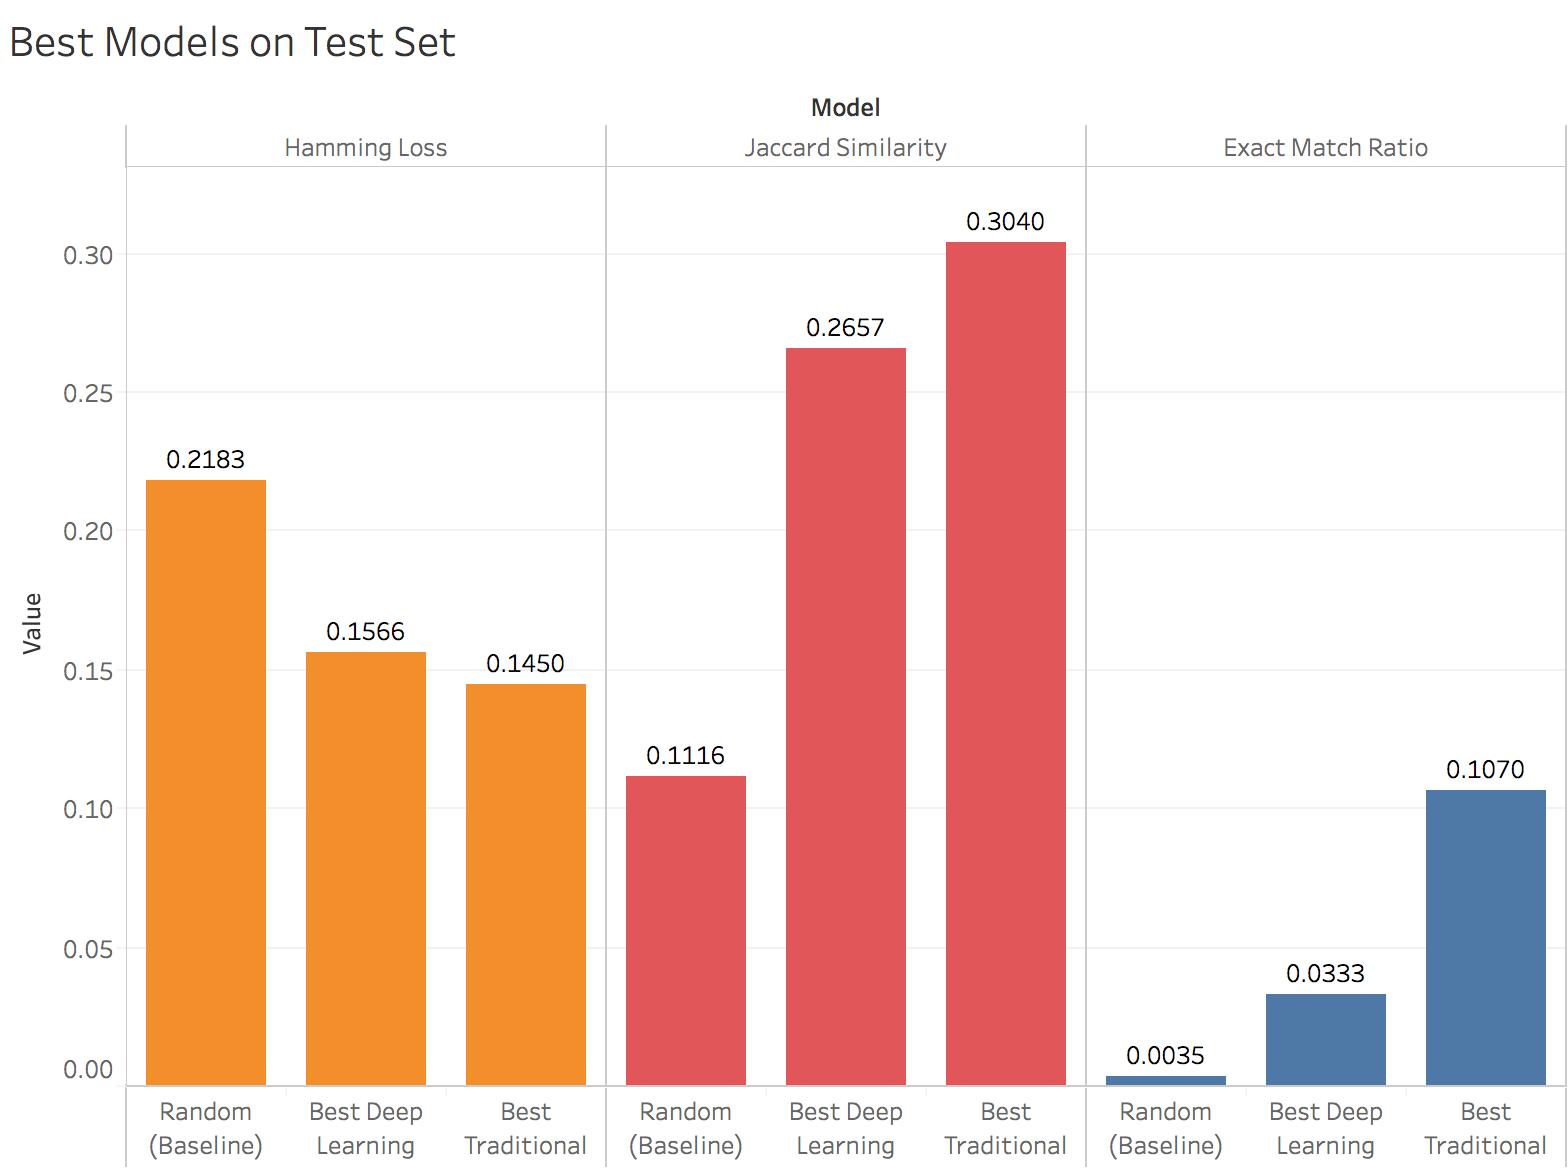

What the dashboard file says about the page in this screenshot:
{"tool":"tableau","page":{"name":"Dashboard 2","canvas":[1000,800],"ordinal":0},"visuals":[{"type":"worksheet","title":"Sheet 3","mark":"Automatic","rows":["value"],"cols":["variable"],"box":[0,0,836,800]},{"type":"legend","title":"Sheet 3","param":"[federated.19kzh7u0o5c9ka13mt9gw0oa4gt9].[none:Genre:nk]","box":[836,0,164,580]}]}

Visuals, with their boxes on the page's 1000x800 design canvas (x1, y1, x2, y2). These are canvas units, not pixel positions in the 1568x1168 screenshot, which may show the page scaled, cropped or inside an application window:
"Sheet 3" worksheet: BBox(0, 0, 836, 800)
"Sheet 3" legend: BBox(836, 0, 1000, 580)
